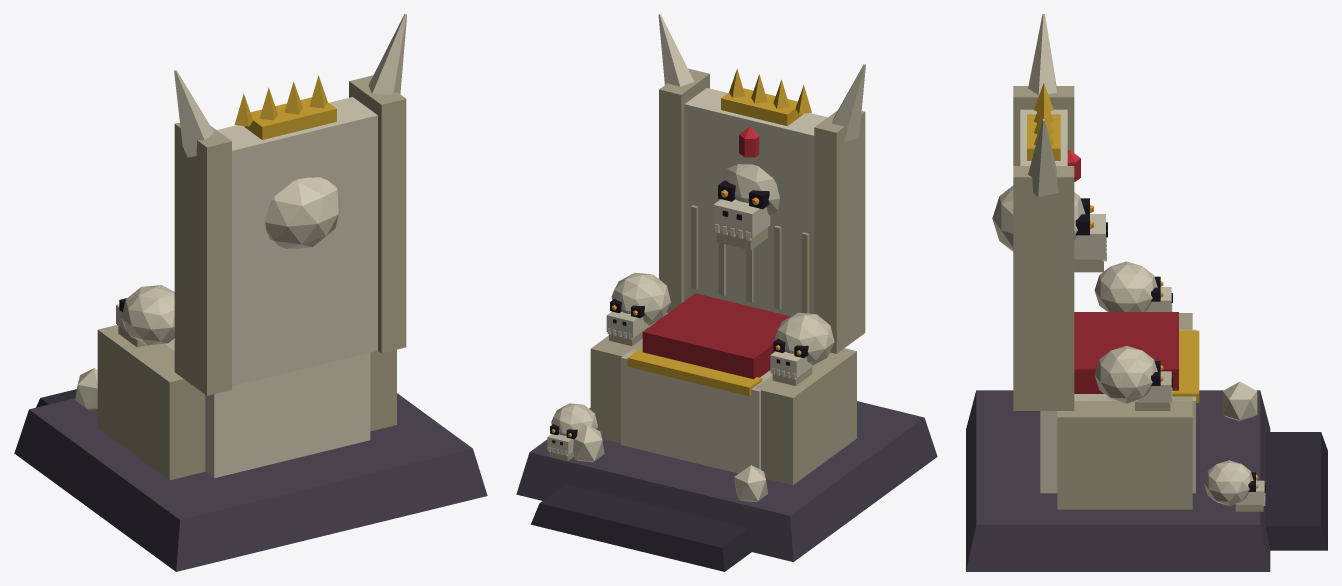
Rendered from Decor_DragonLair_Throne.fbx.
The picture shows the model from 3 angles, left to right: view 1: azimuth 30°, elevation 25°; view 2: azimuth 150°, elevation 25°; view 3: azimuth 270°, elevation 25°; orthographic projection. The views are drawn at different scales.
Visible parts, largest first — view 1: Throne_Body; view 2: Throne_Body; view 3: Throne_Body.
Part boxes in pixels (bbox=[...]): Throne_Body: bbox=[14, 14, 487, 571]; Throne_Body: bbox=[516, 14, 937, 571]; Throne_Body: bbox=[966, 14, 1327, 571].
Size of the model in its own units: 10 by 14.16 by 10.7.
